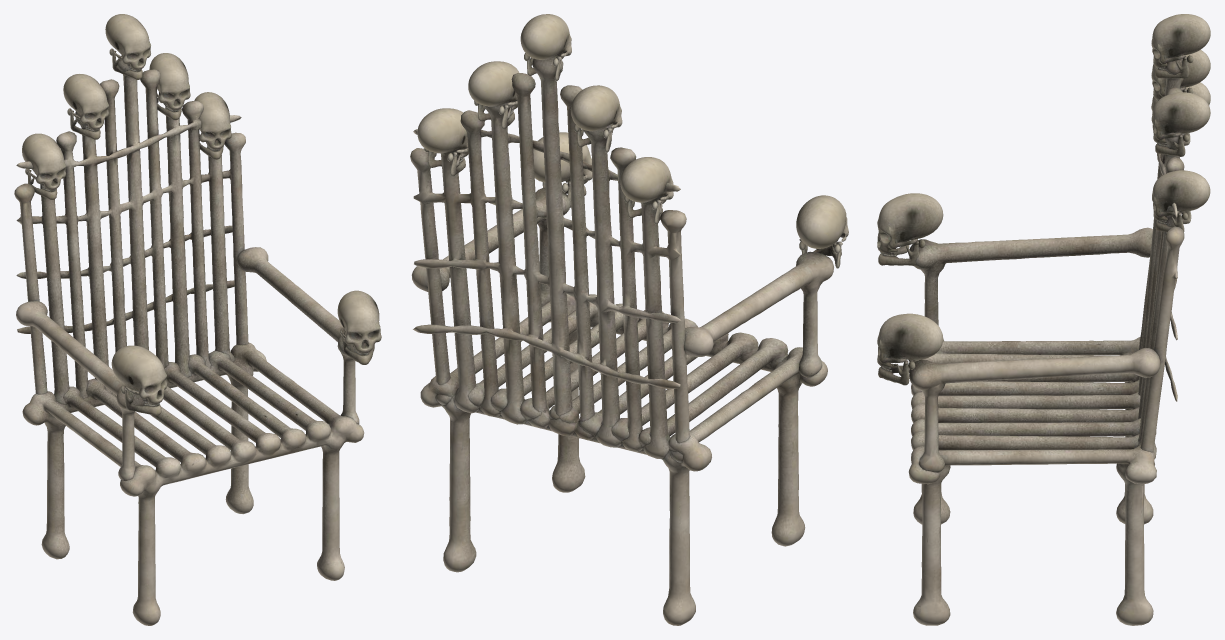
File: bone_throne.glb
The picture shows the model from 3 angles, left to right: view 1: azimuth 30°, elevation 25°; view 2: azimuth 150°, elevation 25°; view 3: azimuth 270°, elevation 25°; orthographic projection. The views are drawn at different scales.
Parts seen in each view (by area): view 1: Throne_Back, Throne_Base, Throne_Arms, Arm_Skull_0, Arm_Skull_2, Crown_Skull_1, Crown_Skull_2, Crown_Skull_0, Crown_Skull_3, Crown_Skull_4; view 2: Throne_Back, Throne_Base, Throne_Arms, Arm_Skull_0, Crown_Skull_4, Crown_Skull_0, Crown_Skull_3, Crown_Skull_1, Crown_Skull_2, Arm_Skull_2; view 3: Throne_Base, Throne_Arms, Throne_Back, Arm_Skull_0, Arm_Skull_2, Crown_Skull_2, Crown_Skull_3, Crown_Skull_4, Crown_Skull_1.
Part boxes in pixels (<box>): Throne_Back: <box>14,55,248,404</box>; Throne_Base: <box>22,342,364,625</box>; Throne_Arms: <box>16,247,359,480</box>; Arm_Skull_0: <box>111,345,167,415</box>; Arm_Skull_2: <box>337,290,381,364</box>; Crown_Skull_1: <box>63,74,108,139</box>; Crown_Skull_2: <box>105,14,150,79</box>; Crown_Skull_0: <box>22,133,65,199</box>; Crown_Skull_3: <box>149,53,190,120</box>; Crown_Skull_4: <box>194,92,231,159</box>; Throne_Back: <box>410,55,689,462</box>; Throne_Base: <box>420,294,827,625</box>; Throne_Arms: <box>411,187,833,377</box>; Arm_Skull_0: <box>796,195,848,268</box>; Crown_Skull_4: <box>417,108,468,176</box>; Crown_Skull_0: <box>620,157,673,224</box>; Crown_Skull_3: <box>468,61,519,129</box>; Crown_Skull_1: <box>570,85,622,152</box>; Crown_Skull_2: <box>520,14,571,81</box>; Arm_Skull_2: <box>533,132,592,207</box>; Throne_Base: <box>908,336,1156,625</box>; Throne_Arms: <box>909,227,1160,472</box>; Throne_Back: <box>1135,58,1185,465</box>; Arm_Skull_0: <box>877,193,943,265</box>; Arm_Skull_2: <box>877,313,943,385</box>; Crown_Skull_2: <box>1151,14,1210,78</box>; Crown_Skull_3: <box>1151,92,1210,156</box>; Crown_Skull_4: <box>1152,170,1210,232</box>; Crown_Skull_1: <box>1151,50,1210,104</box>.
Bounding box in the file's own units: 0.9812 × 1.82 × 0.9857.
1 material, 1 textured.
